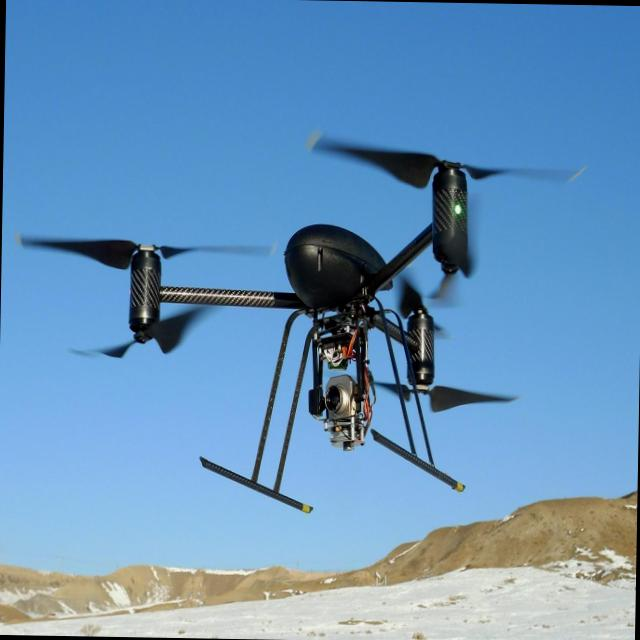drone: (14, 125, 586, 519)
